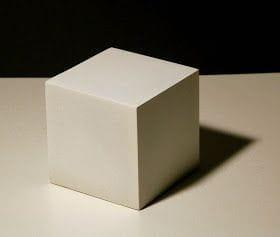cubos: (39, 45, 209, 214)
